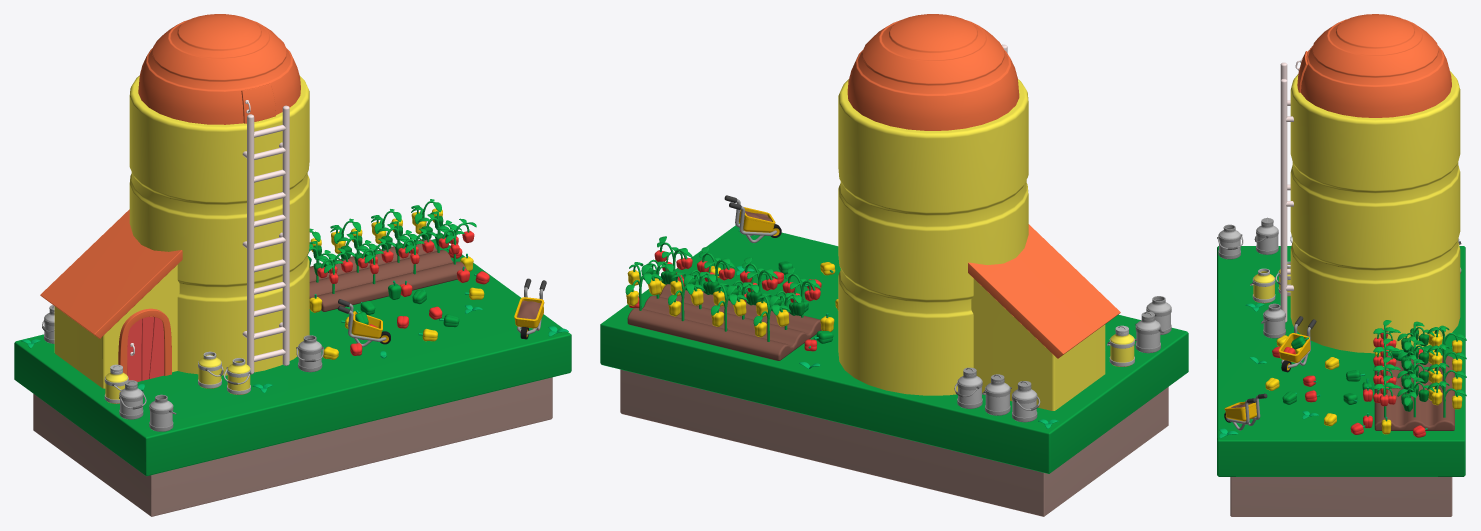
File: Farm_Island_19.glb
3 renders of one model, left to right at view 1: azimuth 30°, elevation 25°; view 2: azimuth 150°, elevation 25°; view 3: azimuth 270°, elevation 25°, orthographic. The views are drawn at different scales.
Parts seen in each view (by area): view 1: Farm_19_Farm_Silo_1, Farm_19_Base_1, Farm_19_Garden_1, Farm_19_Wheelbarrow_with_Ground_1, Farm_19_Wheelbarrow_1, Farm_19_Conteiner_3, Farm_19_Milk_Conteiner_3, Farm_19_Milk_Conteiner_2, Farm_19_Conteiner_2, Farm_19_Conteiner_1, Farm_19_Pepper_Bush_6, Farm_19_Pepper_Bush_9 (+2 smaller); view 2: Farm_19_Farm_Silo_1, Farm_19_Base_1, Farm_19_Garden_1, Farm_19_Wheelbarrow_with_Ground_1, Farm_19_Pepper_Bush_5, Farm_19_Pepper_Bush_8, Farm_19_Pepper_Bush_2, Farm_19_Pepper_Bush_11, Farm_19_Conteiner_6, Farm_19_Conteiner_4, Farm_19_Conteiner_1, Farm_19_Conteiner_5 (+5 smaller); view 3: Farm_19_Farm_Silo_1, Farm_19_Base_1, Farm_19_Garden_1, Farm_19_Wheelbarrow_1, Farm_19_Wheelbarrow_with_Ground_1, Farm_19_Conteiner_2, Farm_19_Conteiner_3, Farm_19_Milk_Conteiner_3, Farm_19_Conteiner_1, Farm_19_Pepper_Bush_3, Farm_19_Pepper_Bush_2, Farm_19_Pepper_Bush_8 (+9 smaller).
Part boxes in pixels (box(x1,y1,x2,y2)): Farm_19_Farm_Silo_1: box(40, 14, 309, 388); Farm_19_Base_1: box(14, 239, 571, 516); Farm_19_Garden_1: box(309, 239, 466, 311); Farm_19_Wheelbarrow_with_Ground_1: box(514, 278, 546, 339); Farm_19_Wheelbarrow_1: box(338, 299, 390, 346); Farm_19_Conteiner_3: box(296, 335, 323, 372); Farm_19_Milk_Conteiner_3: box(224, 358, 251, 394); Farm_19_Milk_Conteiner_2: box(198, 351, 223, 388); Farm_19_Conteiner_2: box(149, 394, 176, 431); Farm_19_Conteiner_1: box(119, 386, 146, 419); Farm_19_Pepper_Bush_6: box(396, 228, 436, 274); Farm_19_Pepper_Bush_9: box(356, 238, 395, 284); Farm_19_Farm_Silo_1: box(838, 14, 1120, 410); Farm_19_Base_1: box(600, 223, 1188, 516); Farm_19_Garden_1: box(627, 284, 821, 360); Farm_19_Wheelbarrow_with_Ground_1: box(724, 195, 781, 242); Farm_19_Pepper_Bush_5: box(668, 272, 705, 321); Farm_19_Pepper_Bush_8: box(711, 282, 748, 331); Farm_19_Pepper_Bush_2: box(625, 262, 662, 310); Farm_19_Pepper_Bush_11: box(753, 293, 791, 341); Farm_19_Conteiner_6: box(1012, 386, 1040, 422); Farm_19_Conteiner_4: box(954, 373, 982, 408); Farm_19_Conteiner_1: box(1135, 317, 1164, 353); Farm_19_Conteiner_5: box(982, 379, 1011, 415); Farm_19_Farm_Silo_1: box(1280, 14, 1460, 353); Farm_19_Base_1: box(1217, 246, 1465, 516); Farm_19_Garden_1: box(1374, 355, 1454, 430); Farm_19_Wheelbarrow_1: box(1278, 316, 1316, 372); Farm_19_Wheelbarrow_with_Ground_1: box(1224, 393, 1267, 430); Farm_19_Conteiner_2: box(1217, 224, 1243, 259); Farm_19_Conteiner_3: box(1261, 303, 1285, 338); Farm_19_Milk_Conteiner_3: box(1250, 268, 1275, 303); Farm_19_Conteiner_1: box(1254, 222, 1278, 254); Farm_19_Pepper_Bush_3: box(1397, 377, 1434, 417); Farm_19_Pepper_Bush_2: box(1427, 381, 1466, 417); Farm_19_Pepper_Bush_8: box(1427, 344, 1466, 373).
Bounding box in the file's own units: 12.94 × 11.63 × 6.99.
60 materials, 60 textured.
